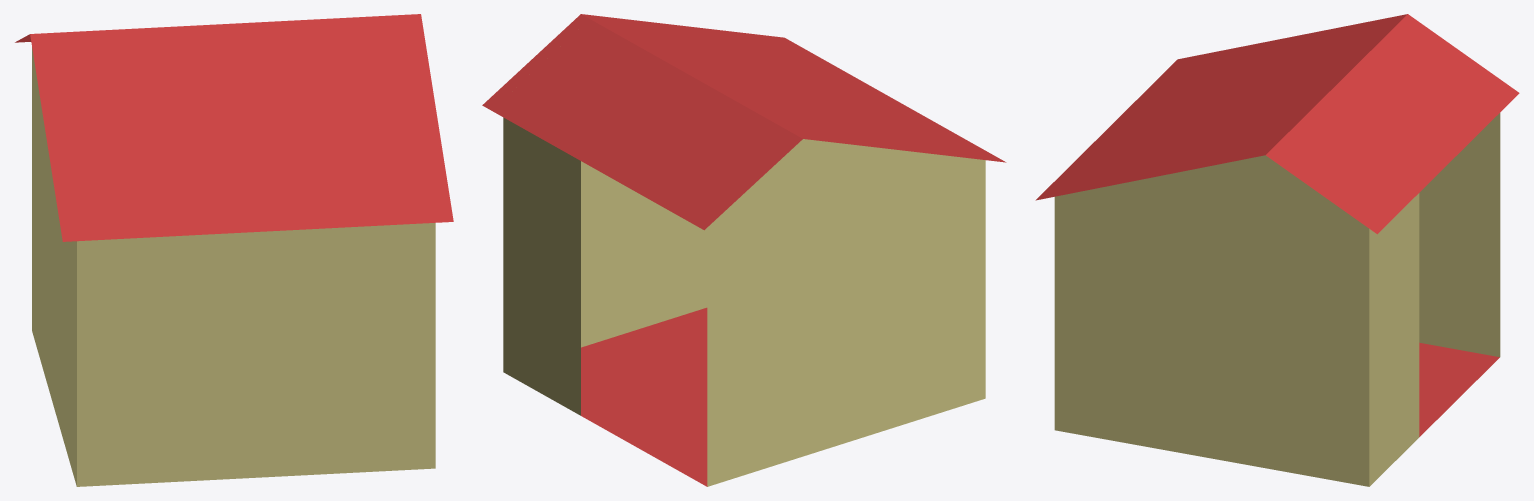
3 renders of one model, left to right at view 1: azimuth 30°, elevation 25°; view 2: azimuth 150°, elevation 25°; view 3: azimuth 270°, elevation 25°, orthographic. The views are drawn at different scales.
Bounding box in the file's own units: 16.1 × 16.25 × 11.84.
